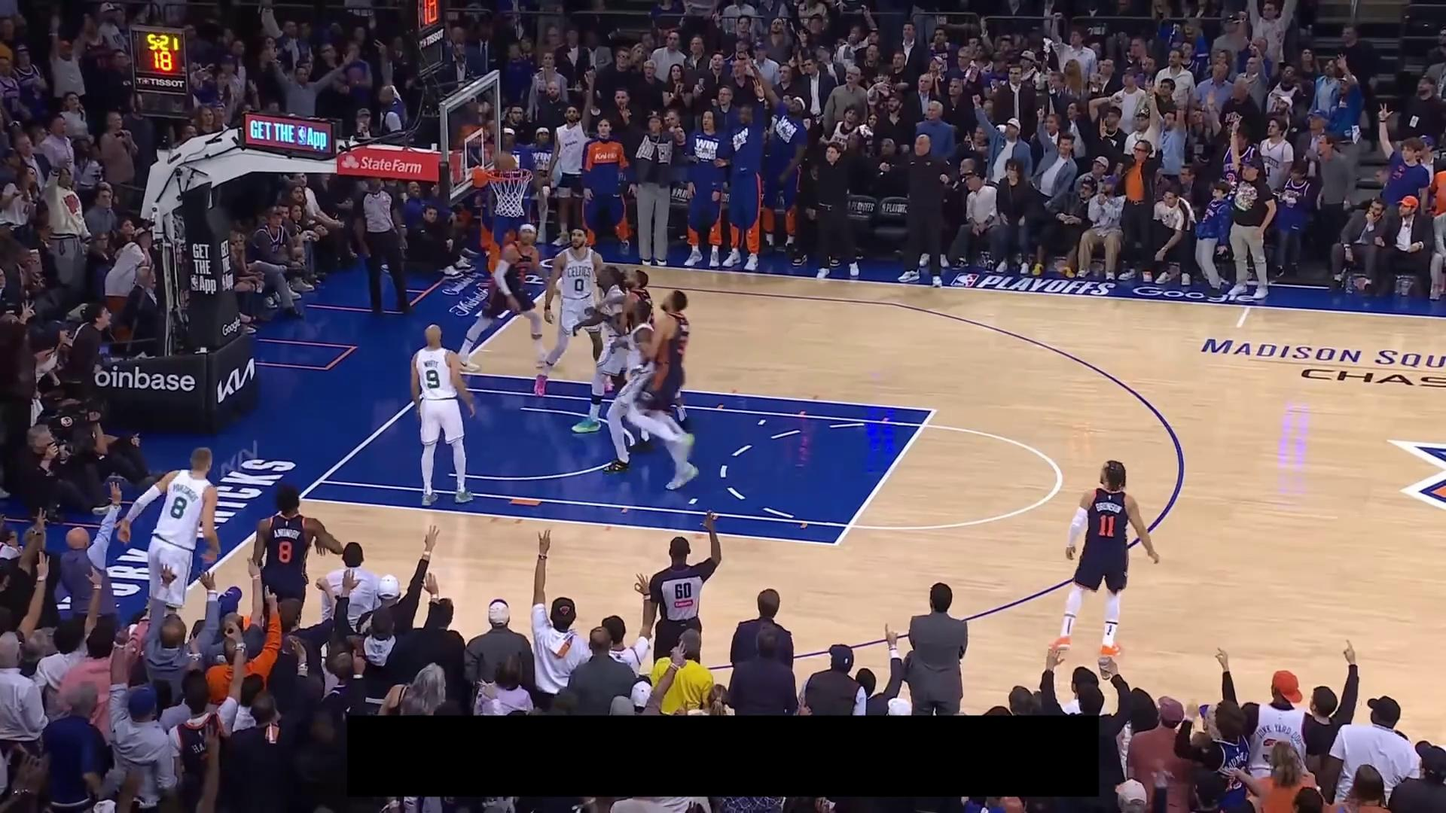ball: (490, 150, 520, 175)
number: (168, 494, 188, 521), (1098, 515, 1118, 539), (276, 539, 293, 565), (425, 369, 442, 391), (574, 276, 585, 293), (517, 267, 527, 279)
player: (1050, 459, 1162, 660), (117, 446, 229, 625), (591, 264, 695, 432), (455, 220, 558, 372), (247, 478, 344, 626), (627, 291, 699, 489), (534, 226, 613, 397), (410, 322, 476, 507), (571, 260, 628, 434), (601, 300, 657, 476)
referee: (648, 505, 723, 681), (350, 174, 415, 315)
rim: (487, 167, 533, 183)
